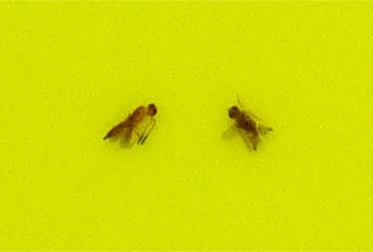Hemiptera: (221, 100, 273, 152)
Hymenoptera: (100, 100, 158, 152)
